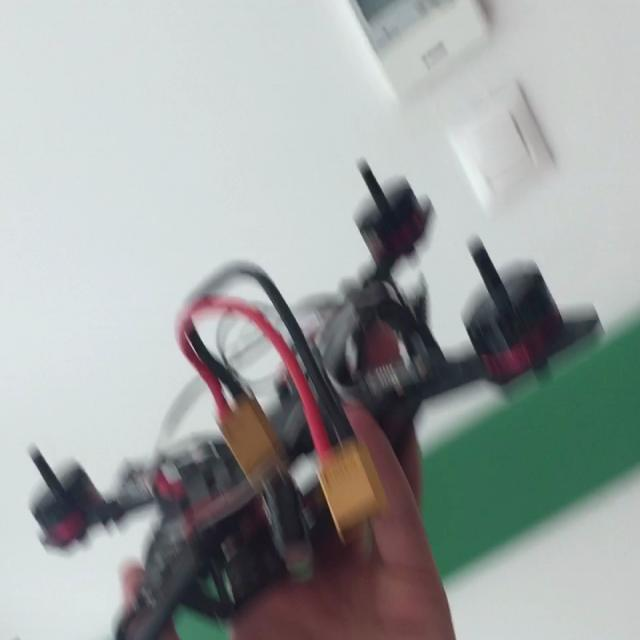drone: (0, 179, 612, 640)
